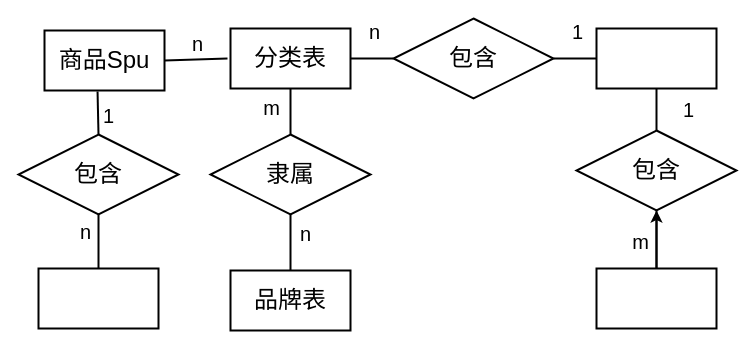
Some shapes in this 754 by 348 pixel diagram are drawn without their labels. The shapes that lost their labels are listed below. From the top down, each one's centre as x and y in pixels, then its label:
the point at 656,58: 规格模板
the point at 98,298: 商品 Sku
the point at 656,298: 规格参数
